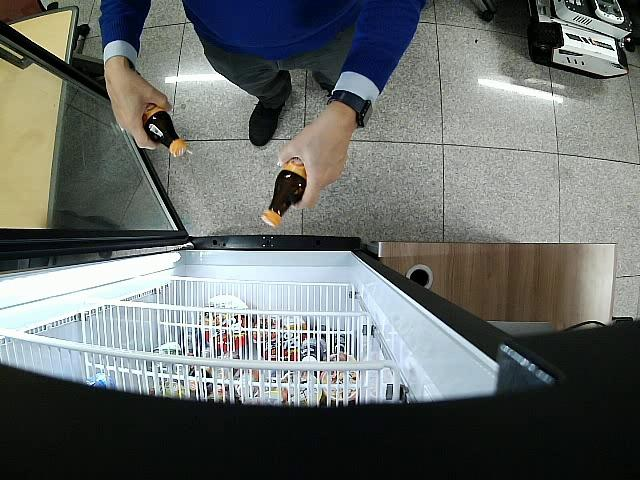00_hand: (277, 127, 354, 208), (102, 66, 170, 152)
17_vita500: (262, 159, 305, 227), (144, 103, 186, 158)
